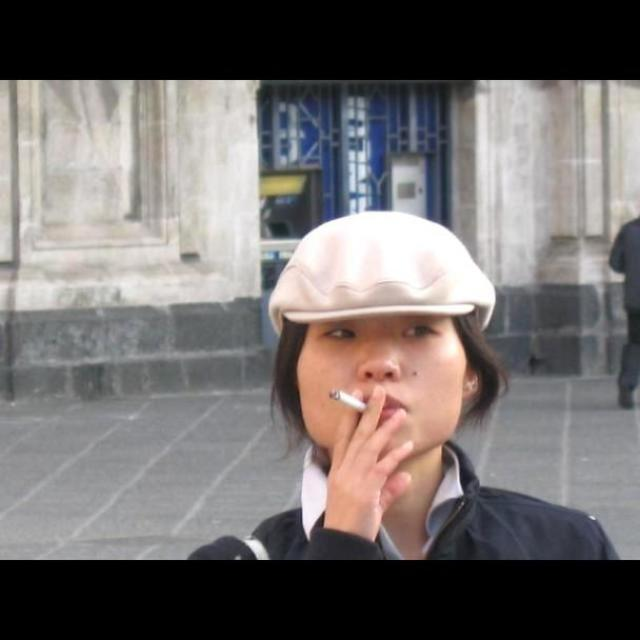rokok: (330, 382, 392, 428)
